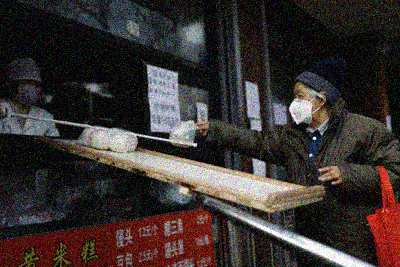with_mask: (288, 88, 317, 127), (15, 79, 42, 105)
